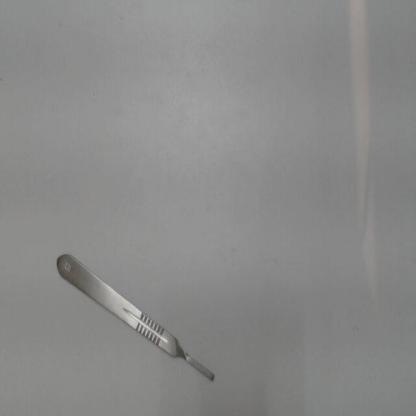No.4 BP Handle: (51, 237, 223, 394)
